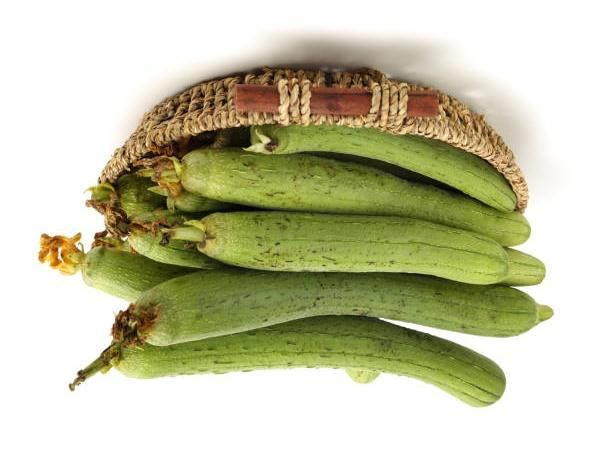peas: (82, 313, 506, 407), (176, 145, 531, 248), (246, 121, 518, 214)
ridge gourd: (94, 64, 530, 212)
sweetpotato: (40, 64, 553, 407)
